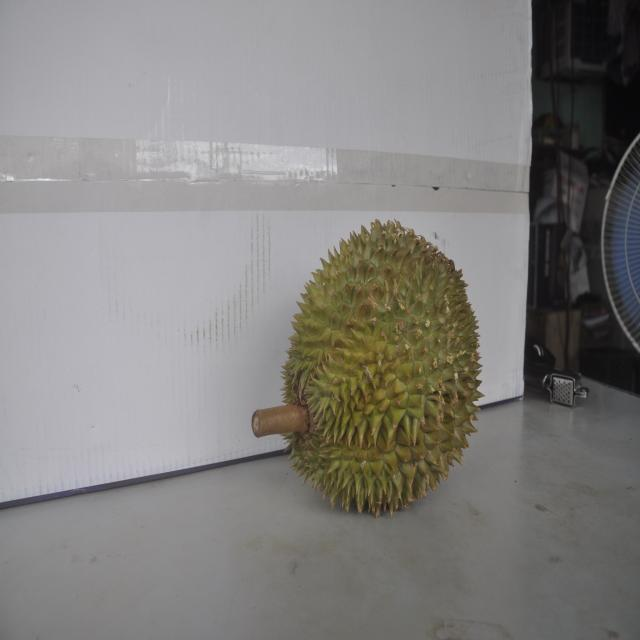mature: (273, 218, 479, 517)
